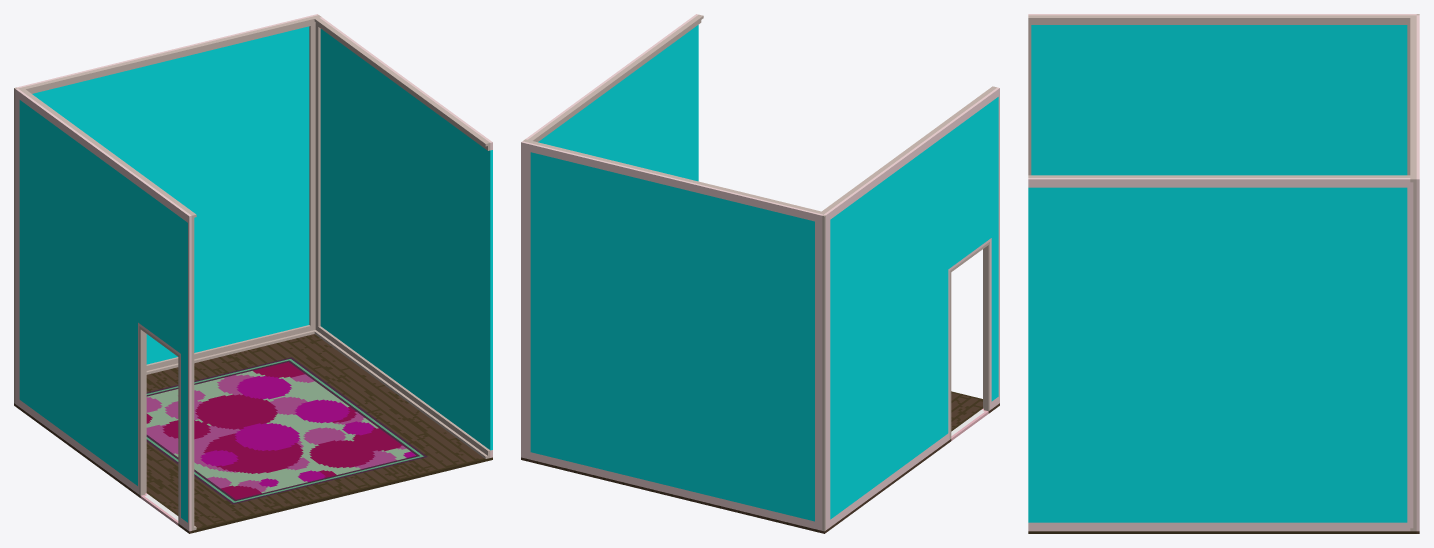
Rendered from room.obj.
3 renders of one model, left to right at view 1: azimuth 30°, elevation 25°; view 2: azimuth 150°, elevation 25°; view 3: azimuth 270°, elevation 25°, orthographic. The views are drawn at different scales.
Parts seen in each view (by area): view 1: room; view 2: room; view 3: room.
Part boxes in pixels (x1=…): room: x1=14, y1=14, x2=492, y2=533; room: x1=521, y1=14, x2=999, y2=533; room: x1=1028, y1=14, x2=1419, y2=533.
Size of the model in its own units: 126 by 126 by 126.
1 material, 1 textured.
